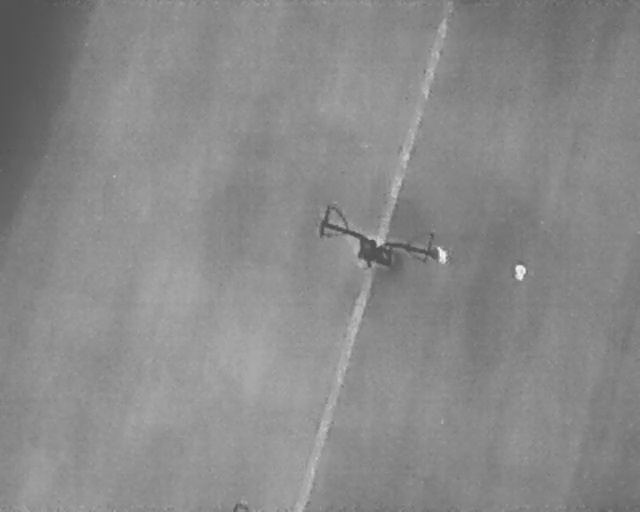Person: (435, 245, 448, 265), (514, 264, 526, 282)
